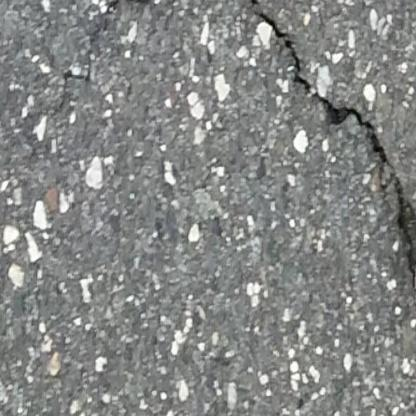Cracks: (228, 0, 416, 328), (50, 0, 167, 95)
